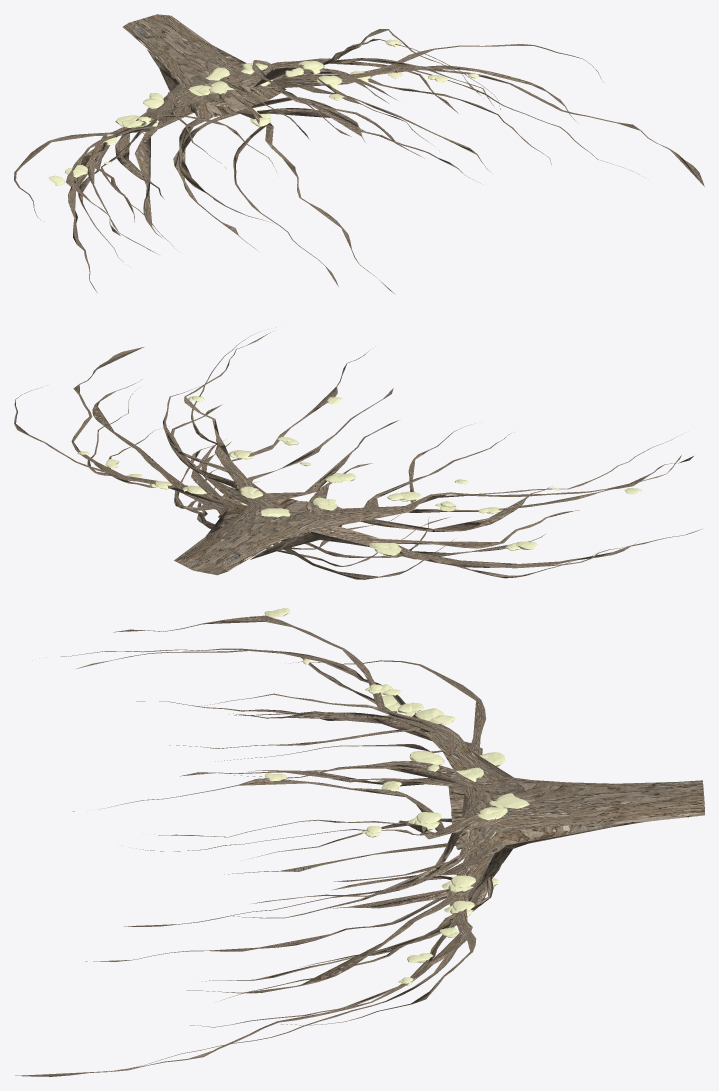
3 renders of one model, top to bottom at view 1: azimuth 30°, elevation 25°; view 2: azimuth 150°, elevation 25°; view 3: azimuth 270°, elevation 25°, orthographic. The views are drawn at different scales.
Visible parts, largest first — view 1: Roots; view 2: Roots; view 3: Roots.
Boxes of the visible parts, bbox=[...] form: Roots: bbox=[14, 14, 704, 294]; Roots: bbox=[14, 332, 701, 579]; Roots: bbox=[15, 608, 704, 1076].
Bounding box in the file's own units: 73.52 × 18.99 × 56.36.
Materials: 2 (1 with a texture image).
